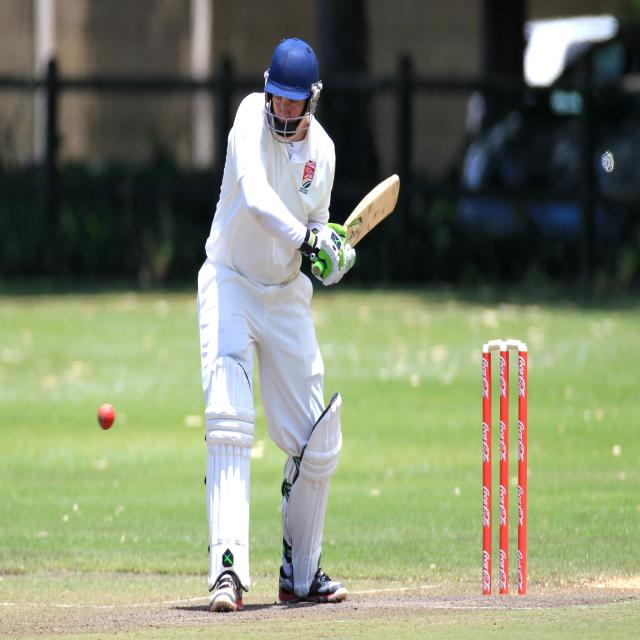ball: (97, 399, 119, 436)
stump: (479, 338, 529, 597)
